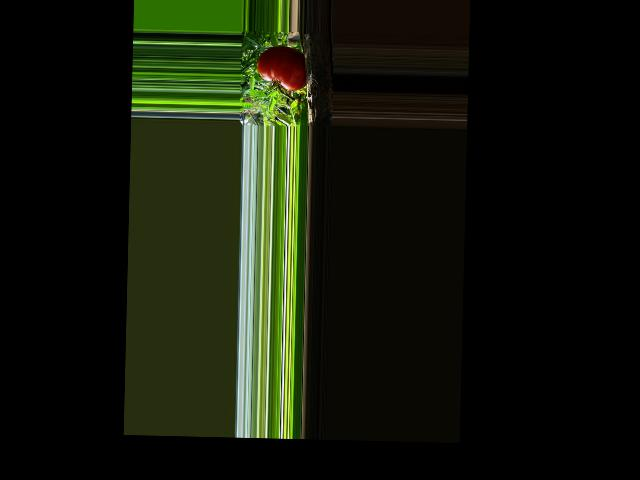tomato: (256, 46, 307, 91)
